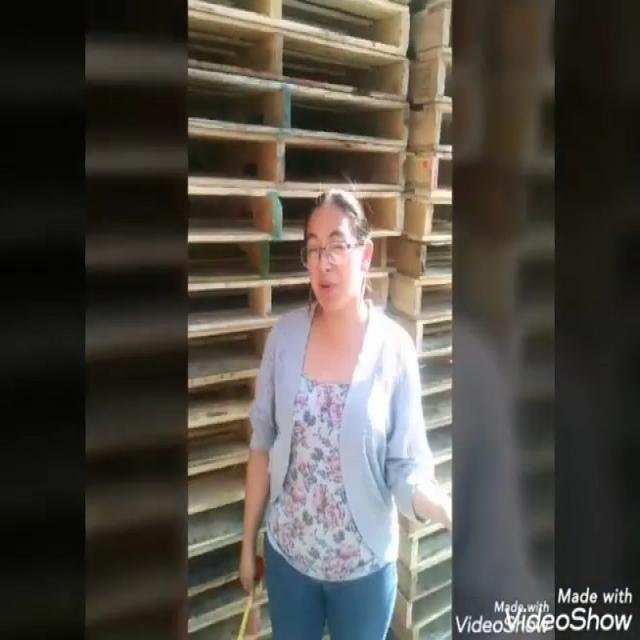Palette: (188, 179, 302, 640), (182, 0, 406, 184), (399, 0, 462, 640)
